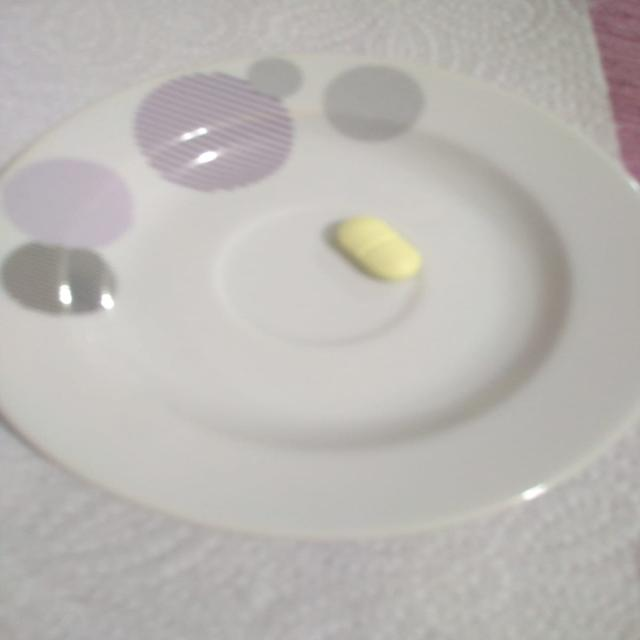pills: (324, 202, 429, 288)
